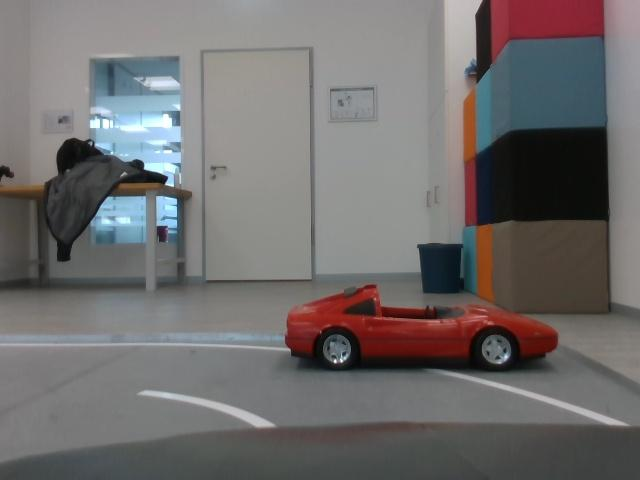car: (286, 283, 567, 376)
